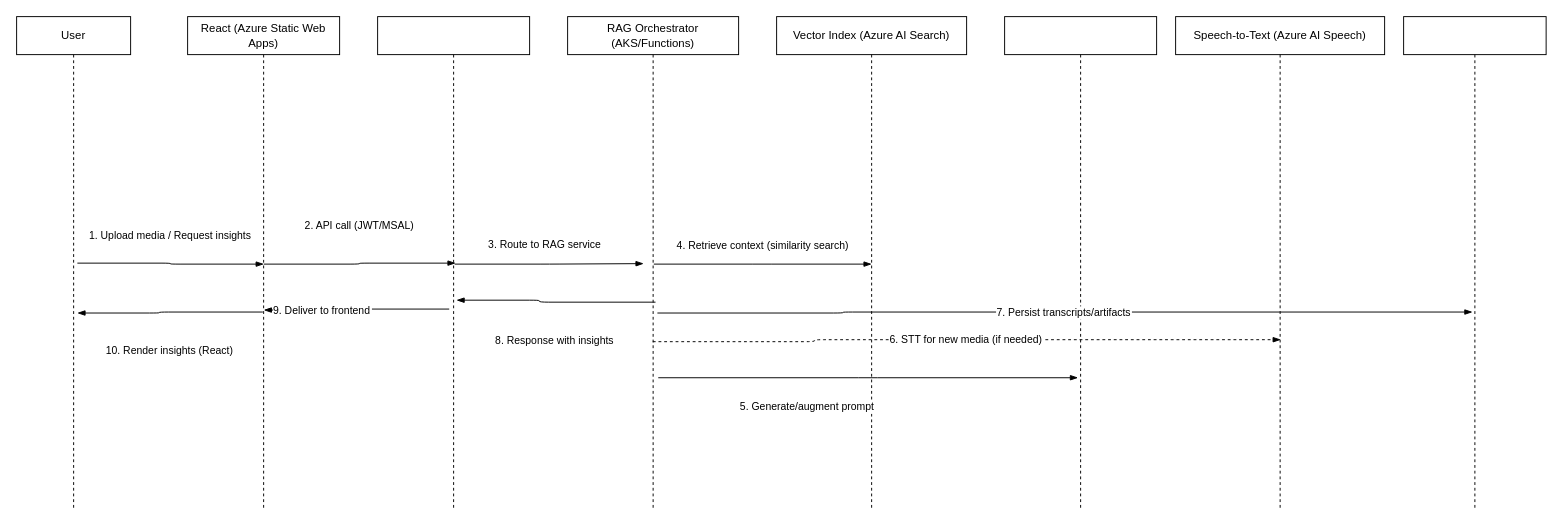
Some shapes in this 1563 by 527 pixel diagram are drawn without their labels. The box of each missing label's shape, as (x1, y1, x2, y2) in pixels:
API Gateway (APIM): (377, 16, 530, 511)
LLM (Azure OpenAI): (1004, 16, 1157, 511)
Storage (Blob): (1403, 16, 1546, 511)
